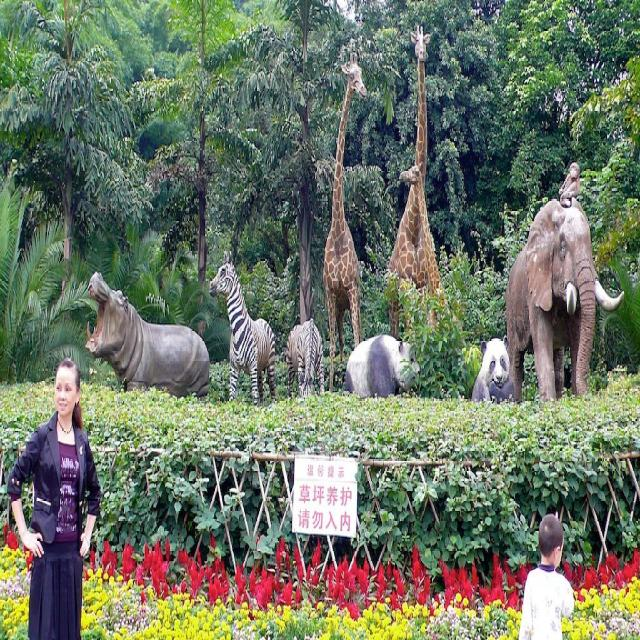panda: (473, 338, 511, 402)
